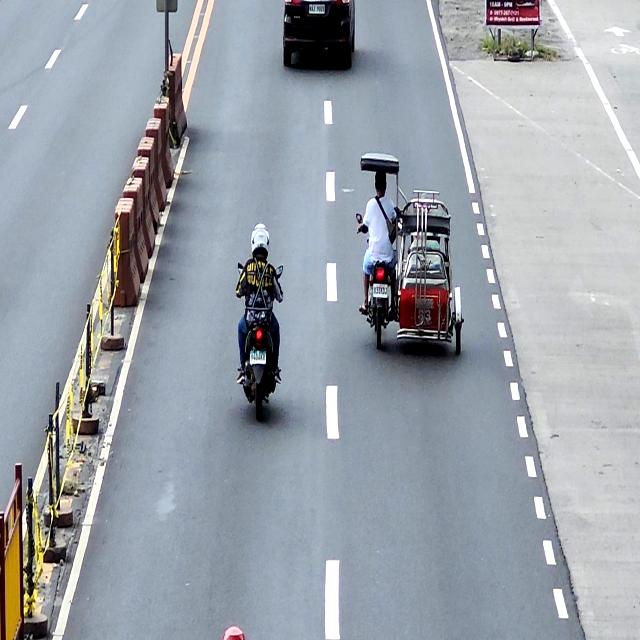Car: (283, 0, 356, 72)
License-Plate: (249, 349, 266, 365), (372, 282, 388, 298), (307, 2, 326, 14)
Motorcycle: (236, 260, 284, 422)
Tricycle: (356, 152, 465, 358)
